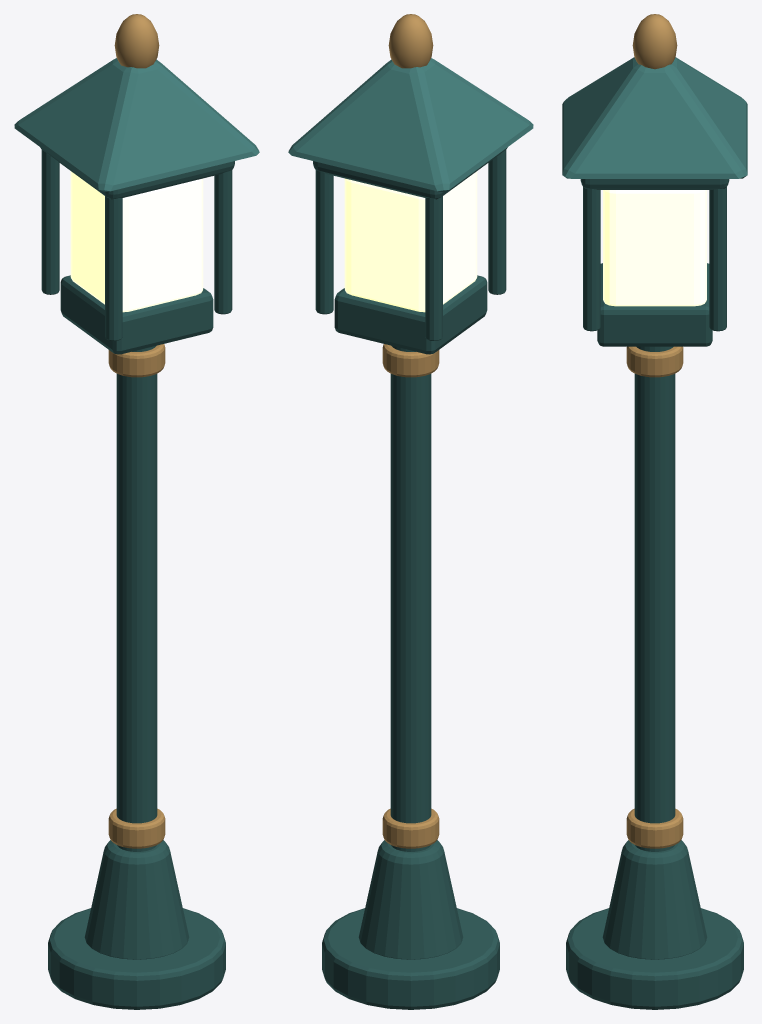
File: street_lamp.glb
The picture shows the model from 3 angles, left to right: view 1: azimuth 30°, elevation 25°; view 2: azimuth 150°, elevation 25°; view 3: azimuth 270°, elevation 25°; orthographic projection.
Visible parts, largest first — view 1: Lamp • pyramidal cap, Lamp • post, Lamp • warm glass, Lamp • foot, Lamp • flared base, Lamp • lantern foot, Lamp • lantern corner.002, Lamp • lantern corner.001, Lamp • lantern corner, Lamp • finial, Lamp • brass collar, Lamp • top frame (+1 smaller); view 2: Lamp • pyramidal cap, Lamp • post, Lamp • warm glass, Lamp • foot, Lamp • flared base, Lamp • lantern foot, Lamp • lantern corner.003, Lamp • lantern corner, Lamp • lantern corner.001, Lamp • finial, Lamp • brass collar, Lamp • top frame (+1 smaller); view 3: Lamp • pyramidal cap, Lamp • post, Lamp • warm glass, Lamp • foot, Lamp • flared base, Lamp • lantern foot, Lamp • lantern corner.002, Lamp • lantern corner.003, Lamp • finial, Lamp • brass collar, Lamp • top frame, Lamp • brass collar.001.
Boxes of the visible parts, x1,y1,x2,y2 form: Lamp • pyramidal cap: (14,58,259,192); Lamp • post: (116,345,157,851); Lamp • warm glass: (70,171,203,312); Lamp • foot: (48,908,225,1009); Lamp • flared base: (84,840,189,959); Lamp • lantern foot: (60,275,213,354); Lamp • lantern corner.002: (214,170,232,314); Lamp • lantern corner.001: (41,150,59,294); Lamp • lantern corner: (105,196,122,340); Lamp • finial: (114,14,159,68); Lamp • brass collar: (108,808,165,848); Lamp • top frame: (40,147,234,199); Lamp • pyramidal cap: (288,58,533,192); Lamp • post: (390,345,431,851); Lamp • warm glass: (344,171,477,312); Lamp • foot: (322,908,499,1009); Lamp • flared base: (358,840,463,959); Lamp • lantern foot: (334,275,487,354); Lamp • lantern corner.003: (315,170,333,314); Lamp • lantern corner: (488,150,506,294); Lamp • lantern corner.001: (425,196,442,340); Lamp • finial: (388,14,433,68); Lamp • brass collar: (382,808,439,848); Lamp • top frame: (313,147,507,199); Lamp • pyramidal cap: (562,57,747,178); Lamp • post: (634,346,675,851); Lamp • warm glass: (603,190,706,306); Lamp • foot: (566,908,743,1009); Lamp • flared base: (602,840,707,959); Lamp • lantern foot: (597,263,712,346); Lamp • lantern corner.002: (583,187,600,331); Lamp • lantern corner.003: (709,187,726,331); Lamp • finial: (632,14,677,69); Lamp • brass collar: (626,808,683,848); Lamp • top frame: (580,179,729,189); Lamp • brass collar.001: (626,346,683,377).
Size of the model in its own units: 0.499 by 2.85 by 0.499.
